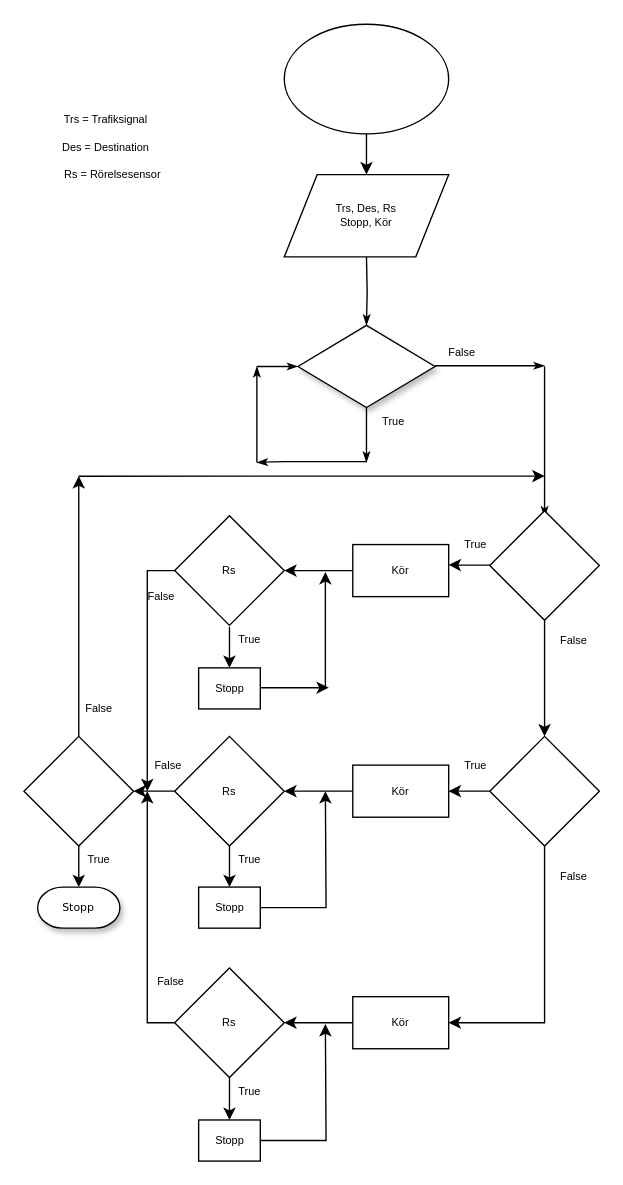
Image size: 623x1185. Some labels were removed from this diagram. Here are the shapes that lost their labels. From the top down, the centre of each, then its label:
At [366,78]: "start".
At [367,368]: "Trs != Green Rs".
At [543,564]: "DesVänster".
At [78,790]: "DesR".
At [543,790]: "DesFram".
